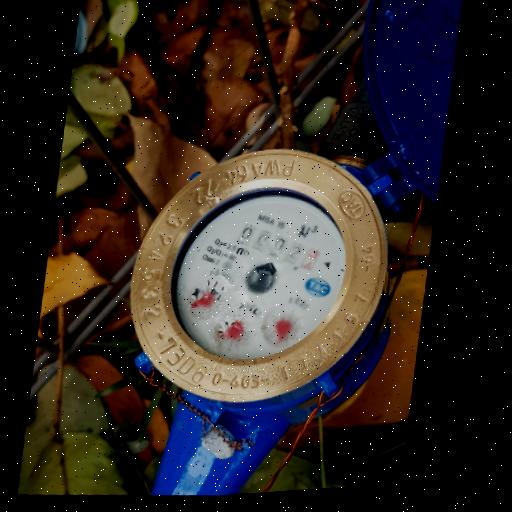0: (264, 233, 290, 261), (235, 220, 258, 248), (251, 226, 274, 254)
2: (281, 238, 307, 267)
3: (298, 244, 324, 274)
border_water_meter_number: (226, 208, 333, 286)
